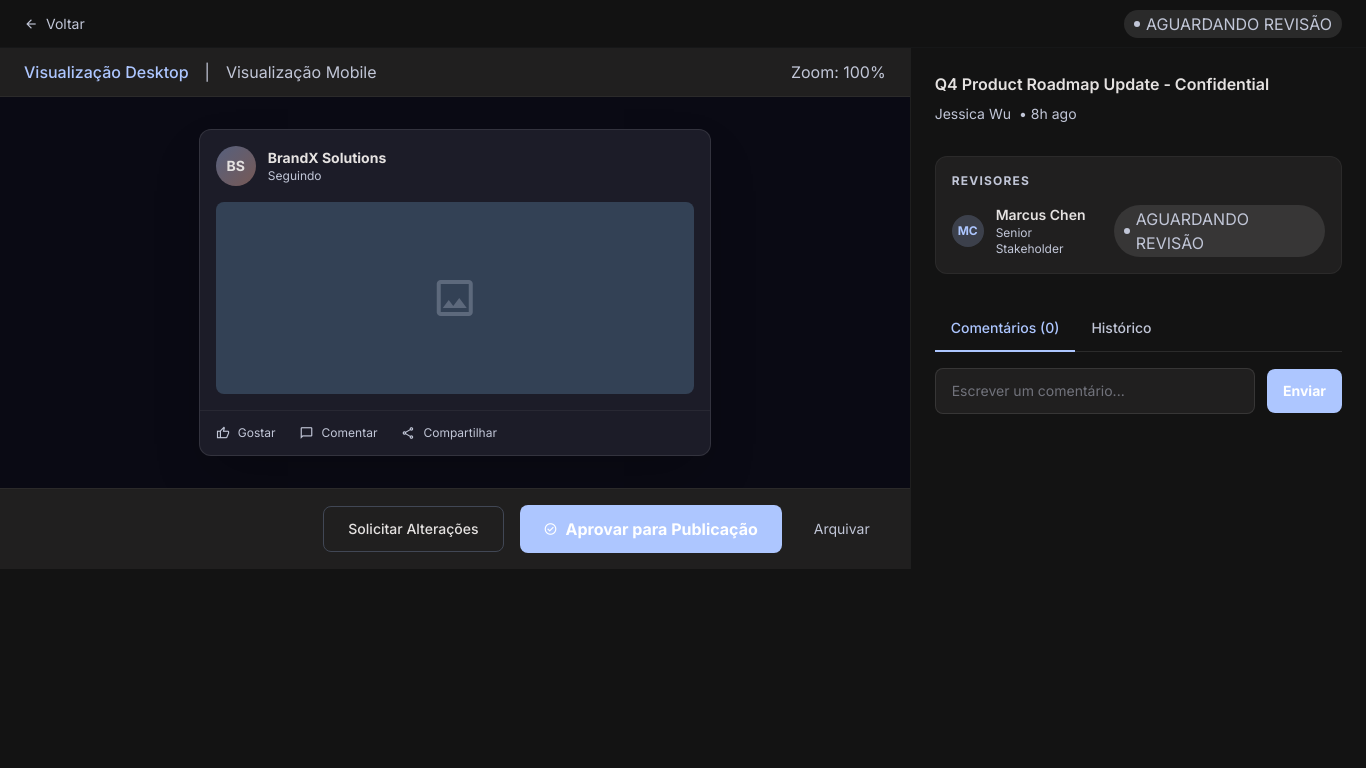
Test: ApprovalDetailPage › closes request changes modal on cancel
The width and height of the screenshot is (1366, 768).
Click the button "Solicitar Alterações". click: [413, 529]
box: [323,506,504,552]
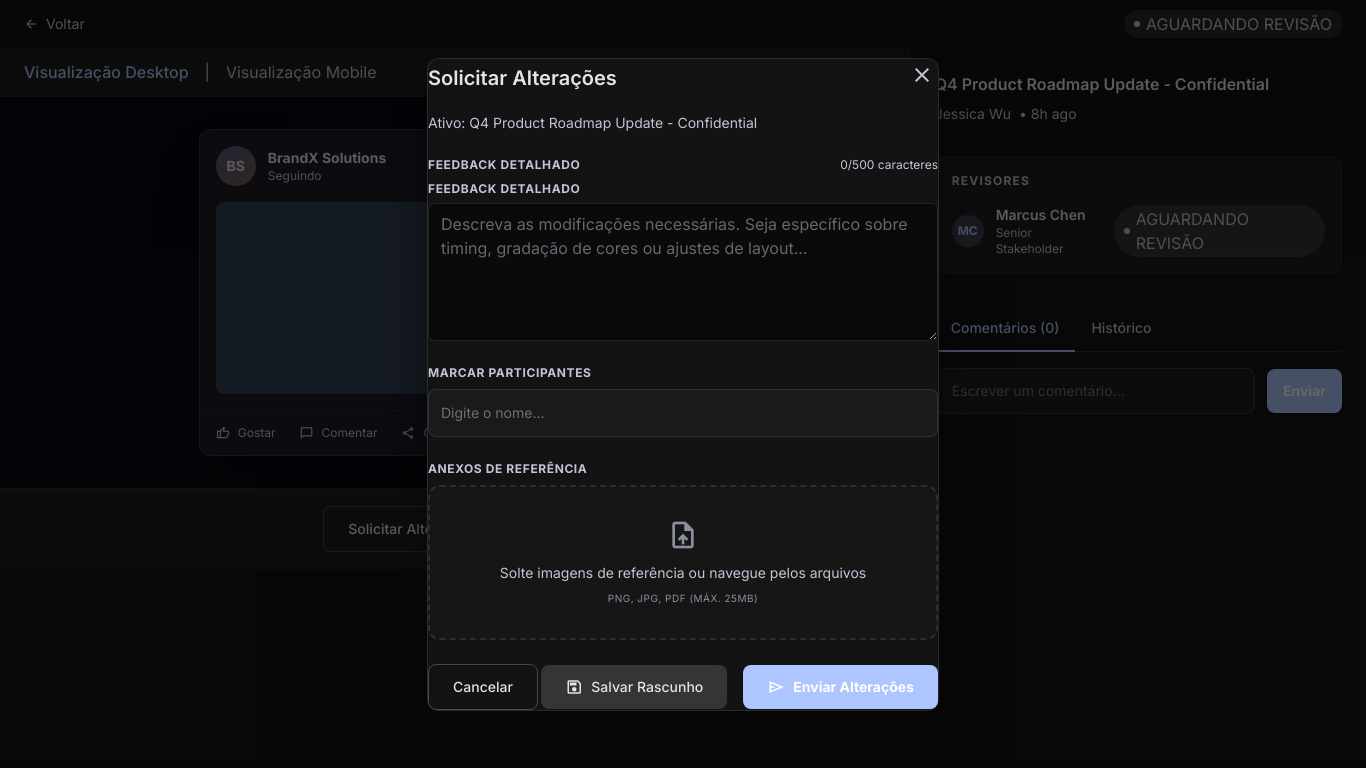
Expected: the dialog is shown, [427,58,939,710]
Find Cancel inside the dialog
Click the button "Cancelar". click: [483, 686]
box: [428,664,538,710]
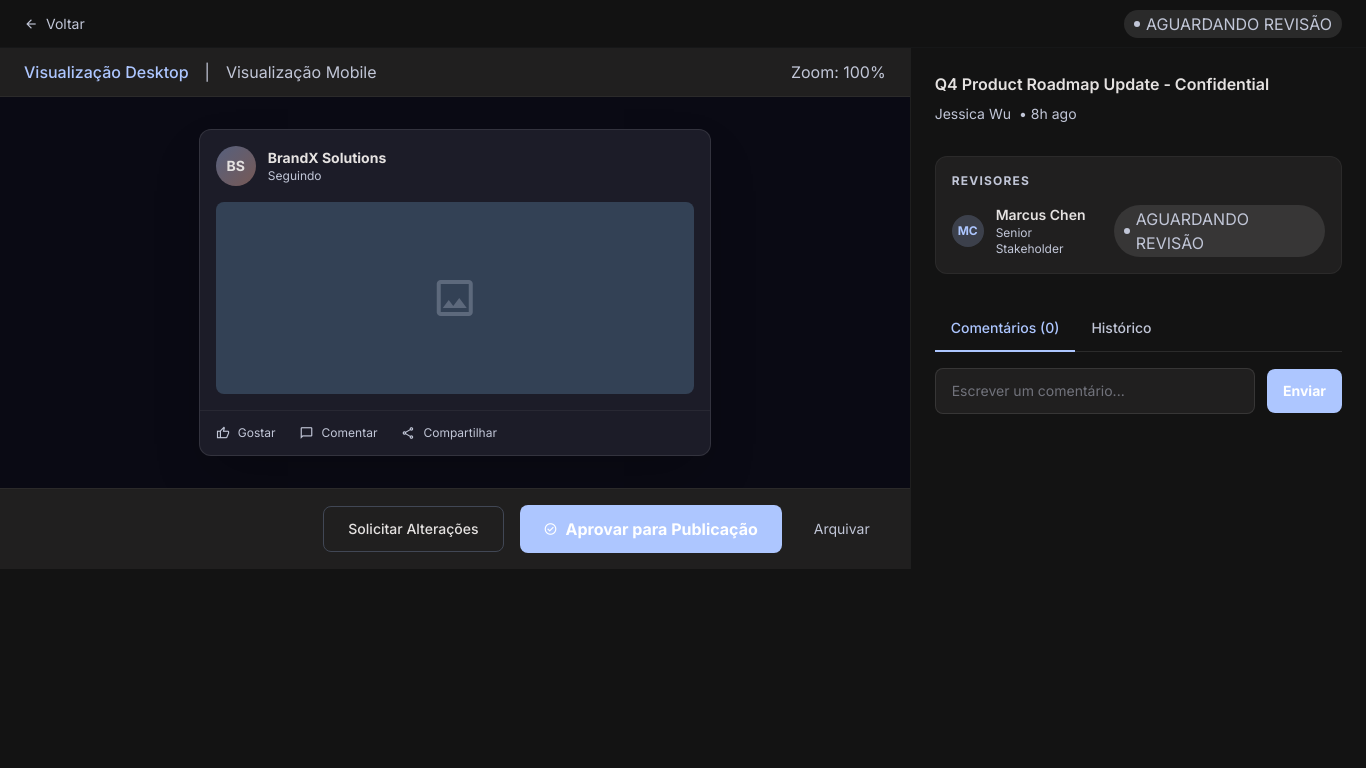
Expected: the dialog is gone
